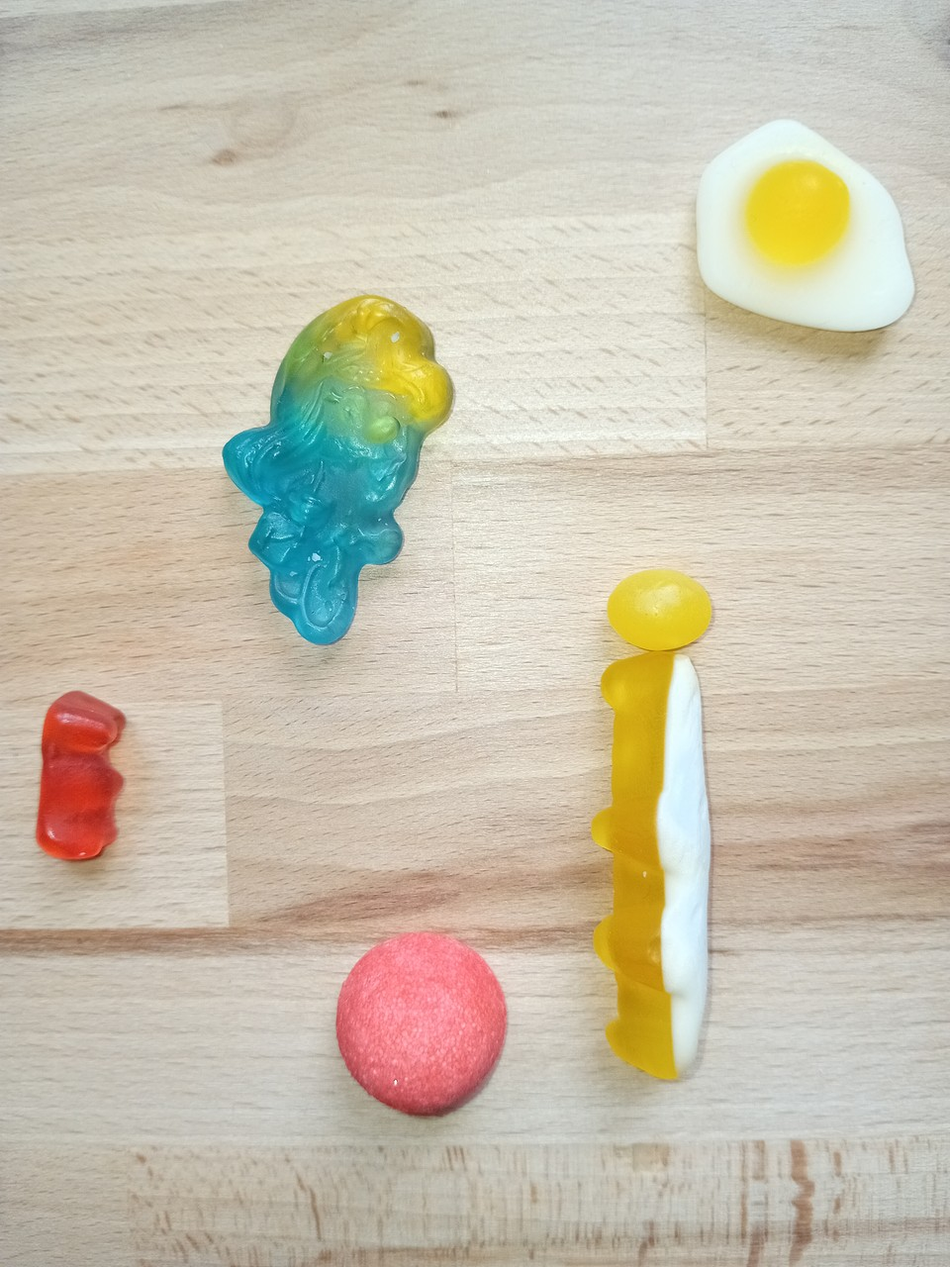crocodile_jaune: (585, 646, 720, 1089)
dragibus_jaune: (592, 563, 721, 650)
oeuf_oeuf: (689, 106, 921, 342)
ourson_orangeFonce: (29, 680, 133, 869)
schtroumpf_bleu-jaune: (221, 290, 457, 657)
tagada_fraise: (329, 923, 515, 1118)
